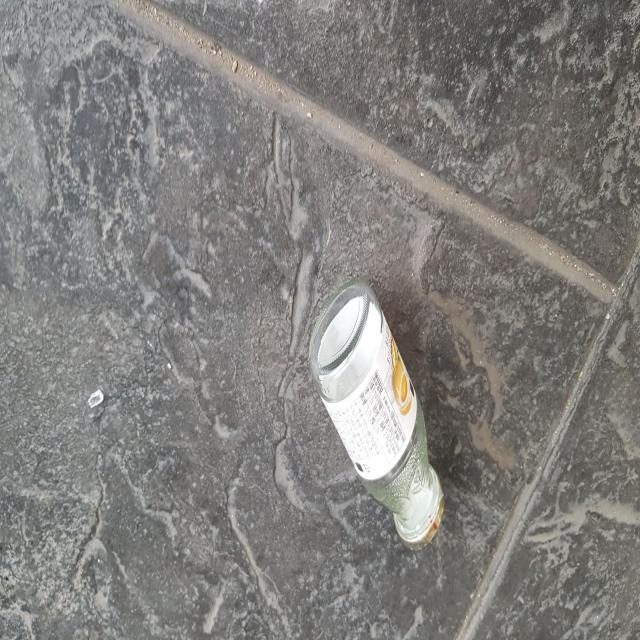glass: (309, 279, 445, 549)
